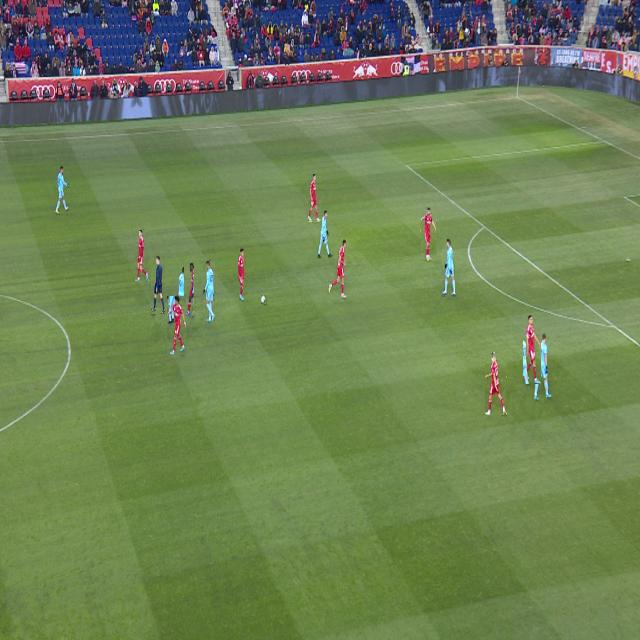football: (261, 296, 266, 304)
player: (486, 351, 506, 415), (523, 316, 541, 384), (534, 333, 552, 400), (329, 239, 347, 298), (168, 296, 186, 355), (421, 208, 436, 261), (203, 261, 215, 322), (318, 211, 333, 258), (443, 239, 455, 295), (55, 167, 69, 214), (136, 230, 148, 281), (308, 174, 321, 221), (178, 267, 187, 324), (185, 264, 194, 316), (238, 248, 245, 300)
referee: (151, 257, 165, 314)
